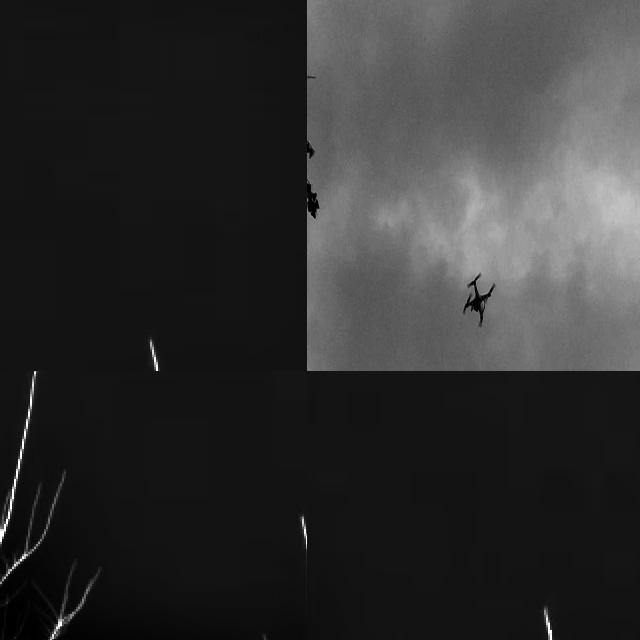drone: (457, 274, 496, 322)
